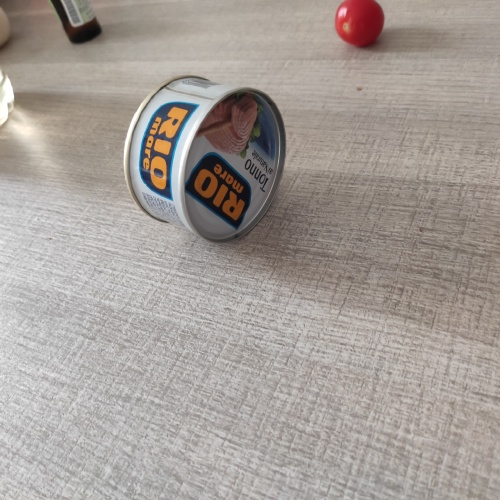pomodoro: (325, 3, 391, 59)
tonno: (115, 71, 293, 250)
